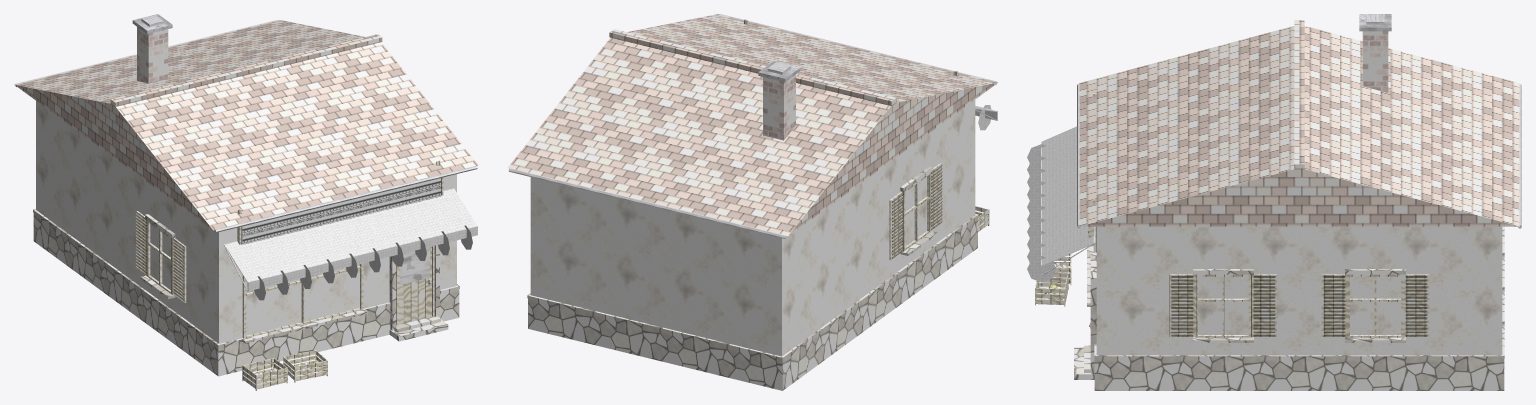
The model's file is negozio_esterno.obj.
3 views of the same model, side by side, from view 1: azimuth 30°, elevation 25°; view 2: azimuth 150°, elevation 25°; view 3: azimuth 270°, elevation 25° (orthographic). The views are drawn at different scales.
Parts seen in each view (by area): view 1: tegole_002, intonaco_000, pietra_001, tessuto_009, tessuto_010, stampa_a_008, legno_011, mattone_004, metallo_003, legno_031, legno_018, legno_032 (+7 smaller); view 2: tegole_002, intonaco_000, pietra_001, mattone_004, metallo_003, legno_031, legno_029, pietra_030; view 3: tegole_002, intonaco_000, pietra_001, tessuto_010, tessuto_009, legno_027, legno_023, mattone_004, legno_021, legno_025, metallo_003, legno_054 (+4 smaller).
Boxes of the visible parts, bbox=[...] form: tegole_002: bbox=[14, 20, 478, 230]; intonaco_000: bbox=[36, 101, 456, 343]; pietra_001: bbox=[33, 209, 459, 376]; tessuto_009: bbox=[224, 198, 454, 300]; tessuto_010: bbox=[250, 188, 477, 294]; stampa_a_008: bbox=[242, 178, 440, 244]; legno_011: bbox=[396, 246, 434, 325]; mattone_004: bbox=[137, 27, 168, 83]; metallo_003: bbox=[15, 20, 477, 232]; legno_031: bbox=[135, 211, 186, 302]; legno_018: bbox=[242, 263, 363, 338]; legno_032: bbox=[242, 358, 287, 389]; tegole_002: bbox=[508, 14, 997, 236]; intonaco_000: bbox=[530, 100, 975, 356]; pietra_001: bbox=[527, 214, 978, 390]; mattone_004: bbox=[763, 74, 795, 140]; metallo_003: bbox=[508, 14, 996, 238]; legno_031: bbox=[889, 163, 942, 260]; legno_029: bbox=[903, 172, 930, 251]; pietra_030: bbox=[900, 166, 937, 255]; tegole_002: bbox=[1079, 20, 1519, 226]; intonaco_000: bbox=[1096, 226, 1502, 355]; pietra_001: bbox=[1094, 226, 1504, 390]; tessuto_010: bbox=[1027, 139, 1095, 282]; tessuto_009: bbox=[1027, 126, 1095, 262]; legno_027: bbox=[1321, 274, 1429, 336]; legno_023: bbox=[1169, 274, 1276, 336]; mattone_004: bbox=[1362, 31, 1388, 92]; legno_021: bbox=[1195, 274, 1251, 337]; legno_025: bbox=[1347, 274, 1403, 337]; metallo_003: bbox=[1077, 84, 1521, 228]; legno_054: bbox=[1035, 272, 1068, 304].
Bounding box in the file's own units: 6.74 × 6 × 9.77.
29 materials, 29 textured.
